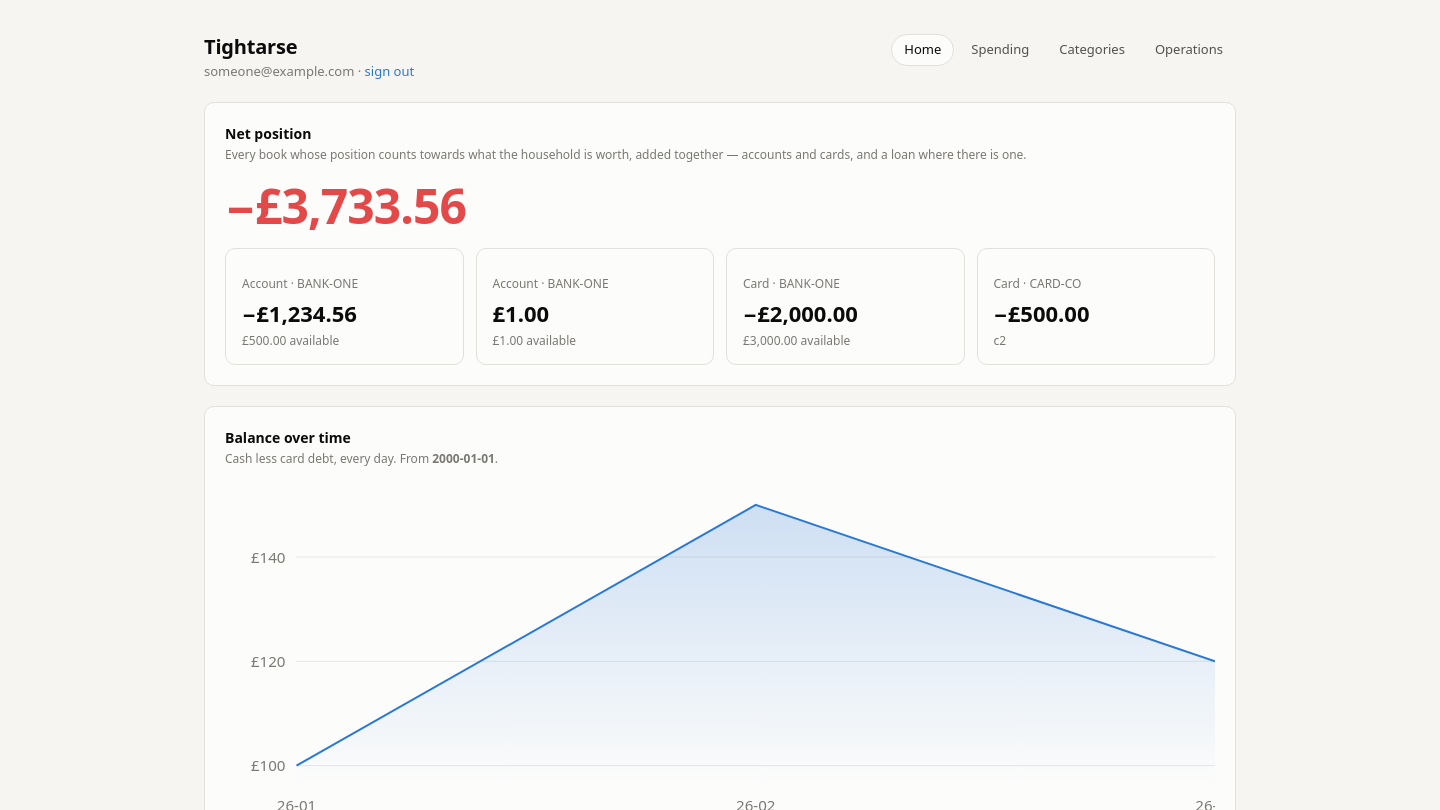
it: moving between the pages › puts the operator's page last, in the nav with the rest
Expected: the heading "Net position" is shown, [225,124,311,142]
Expected: the navigation bar with class "nav" reads "Home Spending Categories Operations", [891,34,1236,66]
Click the link "Operations" at [1189, 49], box [1155,40,1223,58]
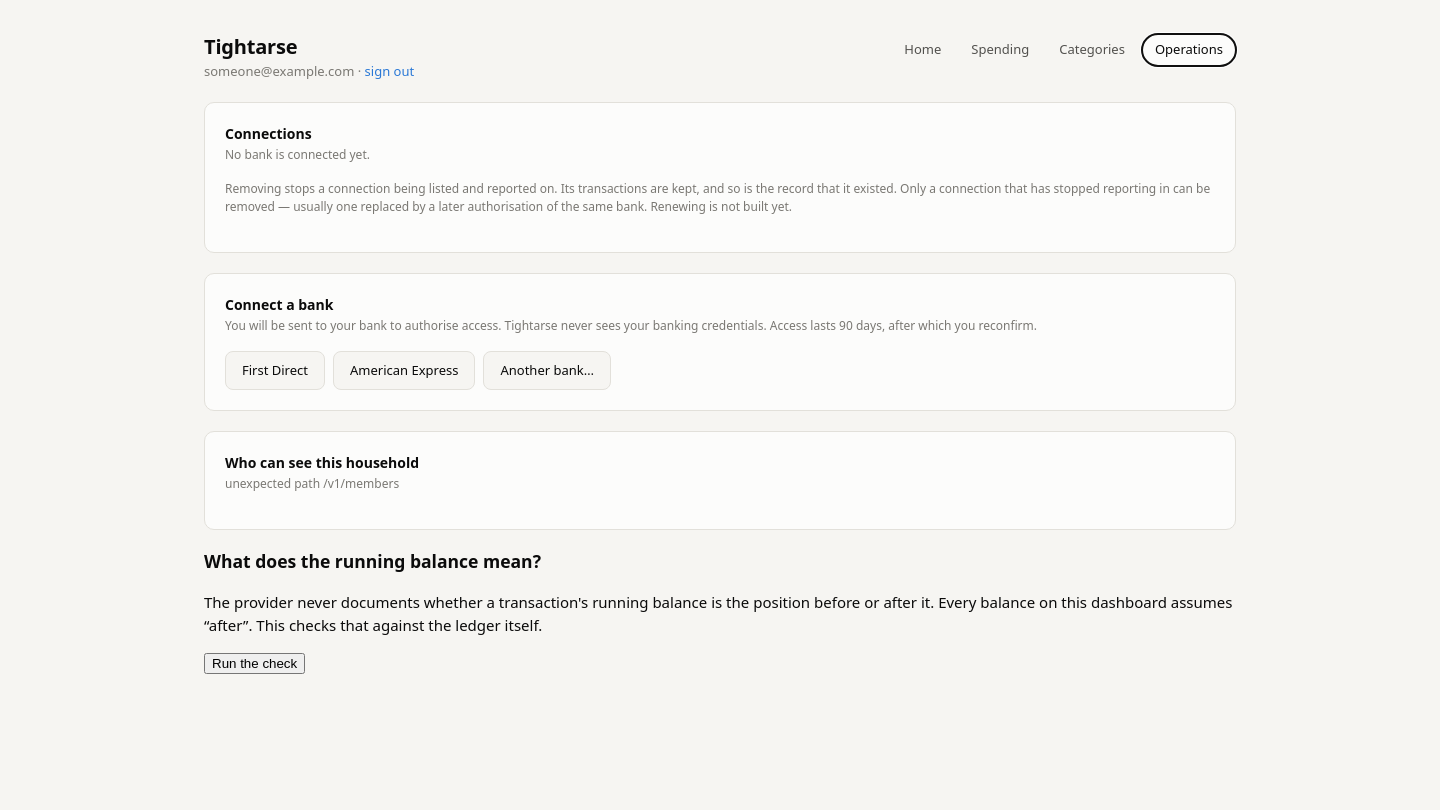
Result: the heading "Connect a bank" is shown at [225,294,334,314]
